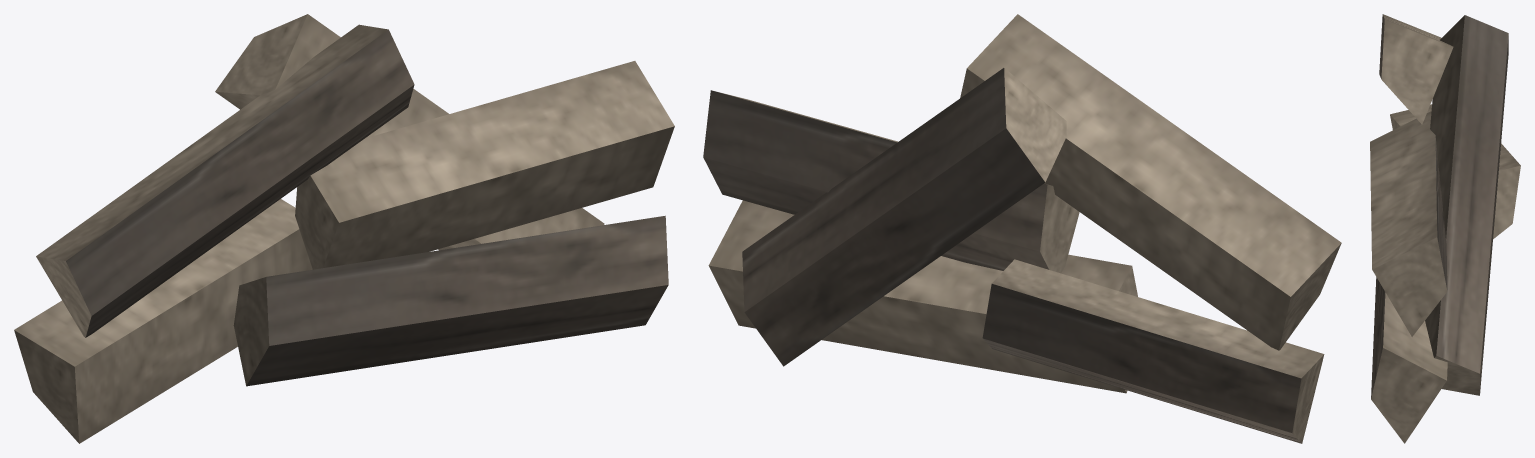
Rendered from Bar_Grill_Wood_Stack.fbx.
3 renders of one model, left to right at view 1: azimuth 30°, elevation 25°; view 2: azimuth 150°, elevation 25°; view 3: azimuth 270°, elevation 25°, orthographic. The views are drawn at different scales.
Visible parts, largest first — view 1: Bar_Grill_Wood_Stack; view 2: Bar_Grill_Wood_Stack; view 3: Bar_Grill_Wood_Stack.
Part boxes in pixels (box(x1,y1,x2,y2)): Bar_Grill_Wood_Stack: box(14, 14, 674, 443); Bar_Grill_Wood_Stack: box(703, 14, 1341, 443); Bar_Grill_Wood_Stack: box(1370, 14, 1520, 443).
Size of the model in its own units: 1.61 by 0.9349 by 0.4082.
